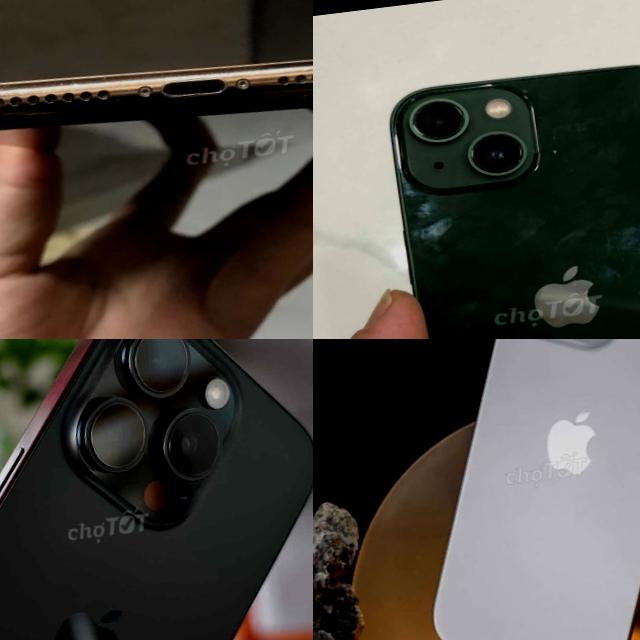scratch: (0, 33, 313, 150)
